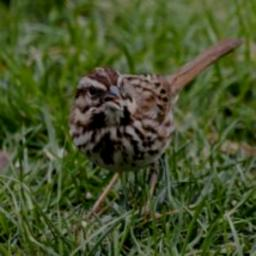Sparrow: (66, 34, 246, 207)
